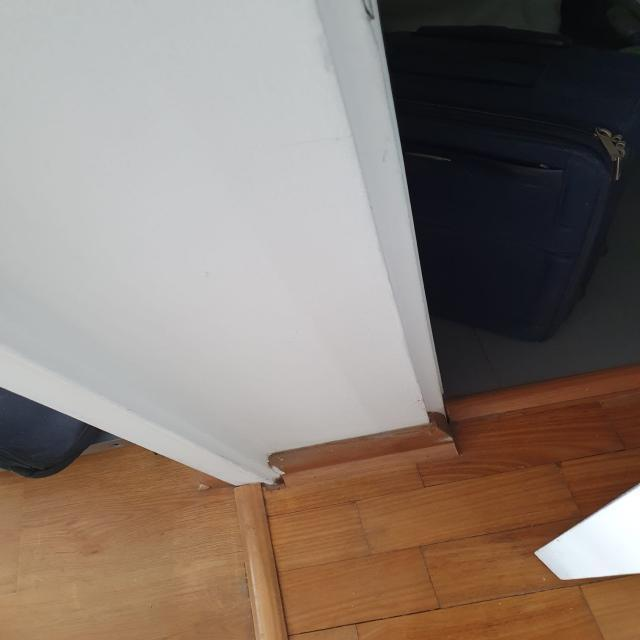Suitcase: (339, 29, 640, 347)
